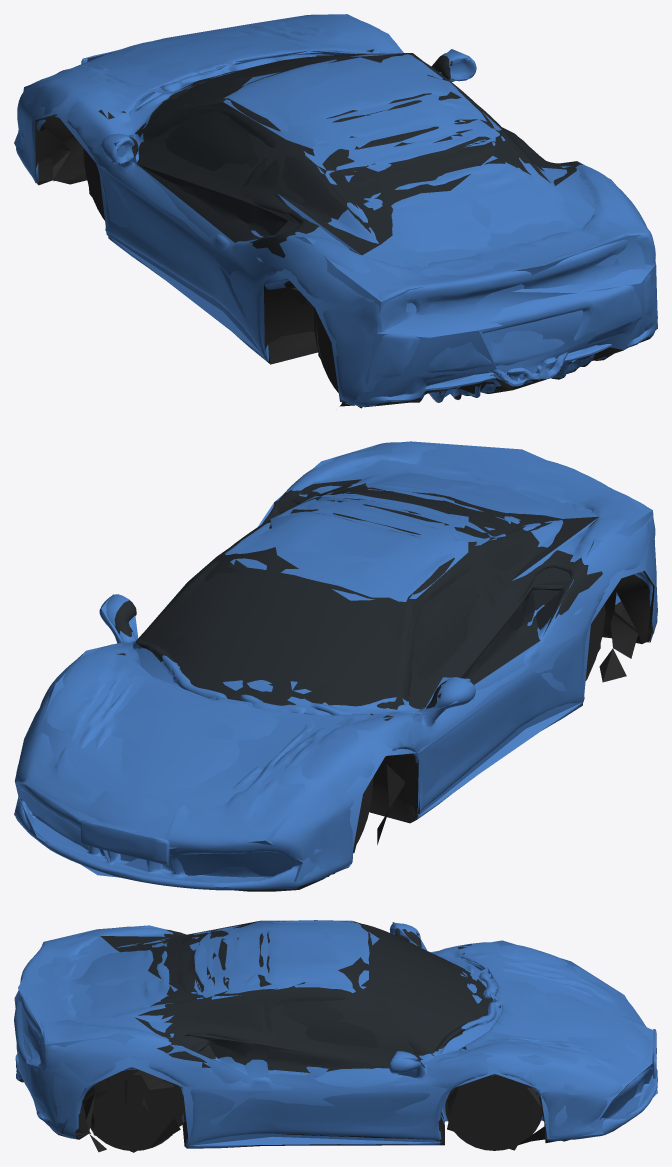
The model's file is ferrari-488-spider.glb.
3 views of the same model, one above another, from view 1: azimuth 30°, elevation 25°; view 2: azimuth 150°, elevation 25°; view 3: azimuth 270°, elevation 25° (orthographic). The views are drawn at different scales.
Parts seen in each view (by area): view 1: body, far; view 2: body, far; view 3: body, far.
Boxes of the visible parts, x1,y1,x2,y2 form: body: (16,15,657,408); far: (14,14,657,404); body: (15,442,657,891); far: (14,441,657,885); body: (14,920,657,1152); far: (14,920,657,1152).
Size of the model in its own units: 2.34 by 1.27 by 4.57.
